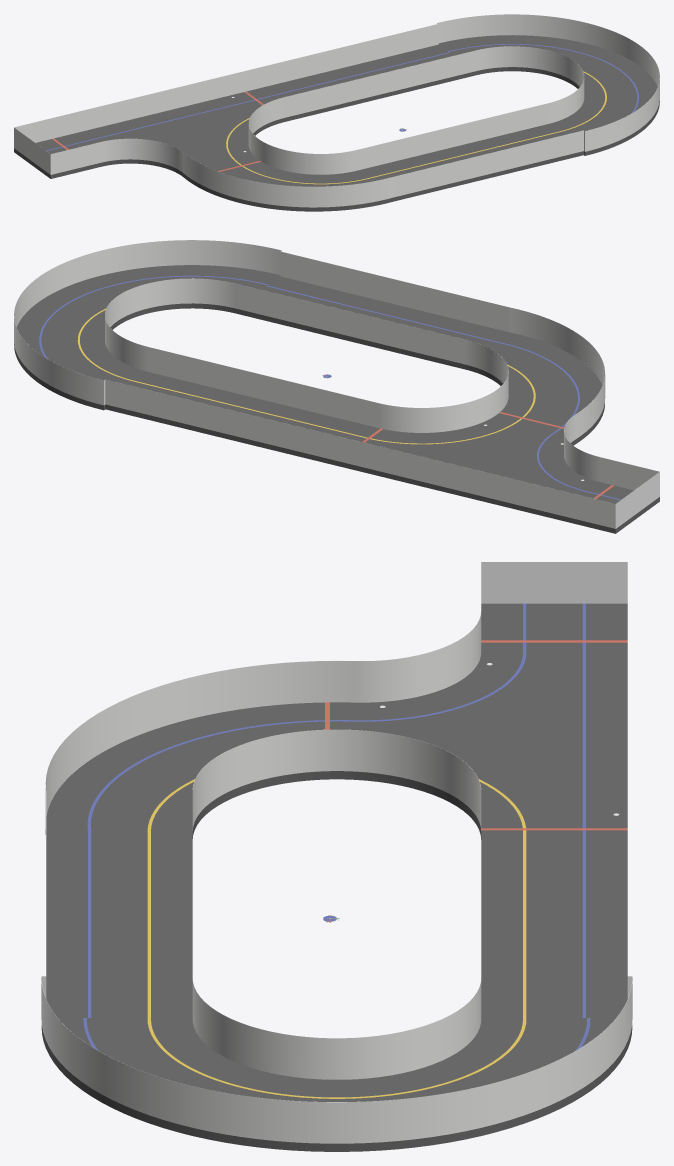
3 views of the same model, one above another, from view 1: azimuth 30°, elevation 25°; view 2: azimuth 150°, elevation 25°; view 3: azimuth 270°, elevation 25° (orthographic). The views are drawn at different scales.
Visible parts, largest first — view 1: Full Oval Export Testing v2; view 2: Full Oval Export Testing v2; view 3: Full Oval Export Testing v2.
Part boxes in pixels (<box>): Full Oval Export Testing v2: <box>14,14,659,211</box>; Full Oval Export Testing v2: <box>14,240,659,533</box>; Full Oval Export Testing v2: <box>41,562,632,1151</box>.
Bounding box in the file's own units: 7.09 × 3.28 × 0.3078.
